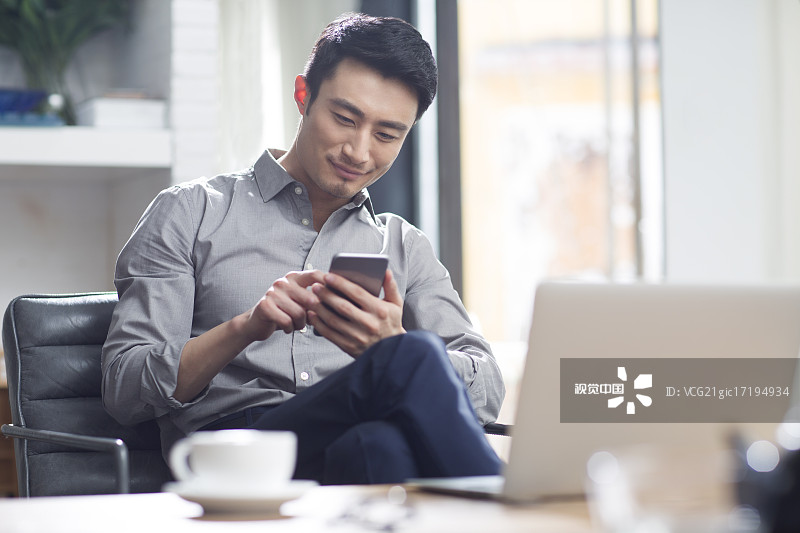reading: (238, 247, 420, 366)
